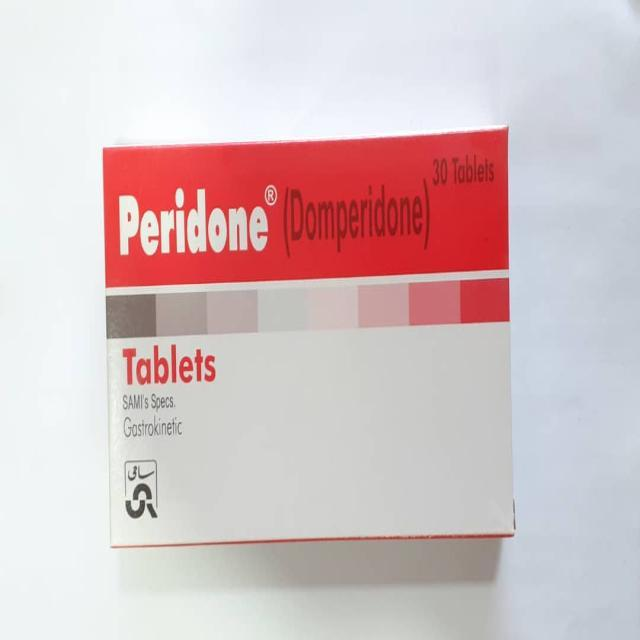drug-name: (115, 188, 269, 260)
